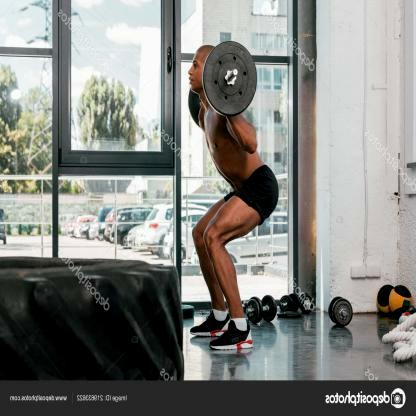Barbell: (229, 67, 237, 82)
